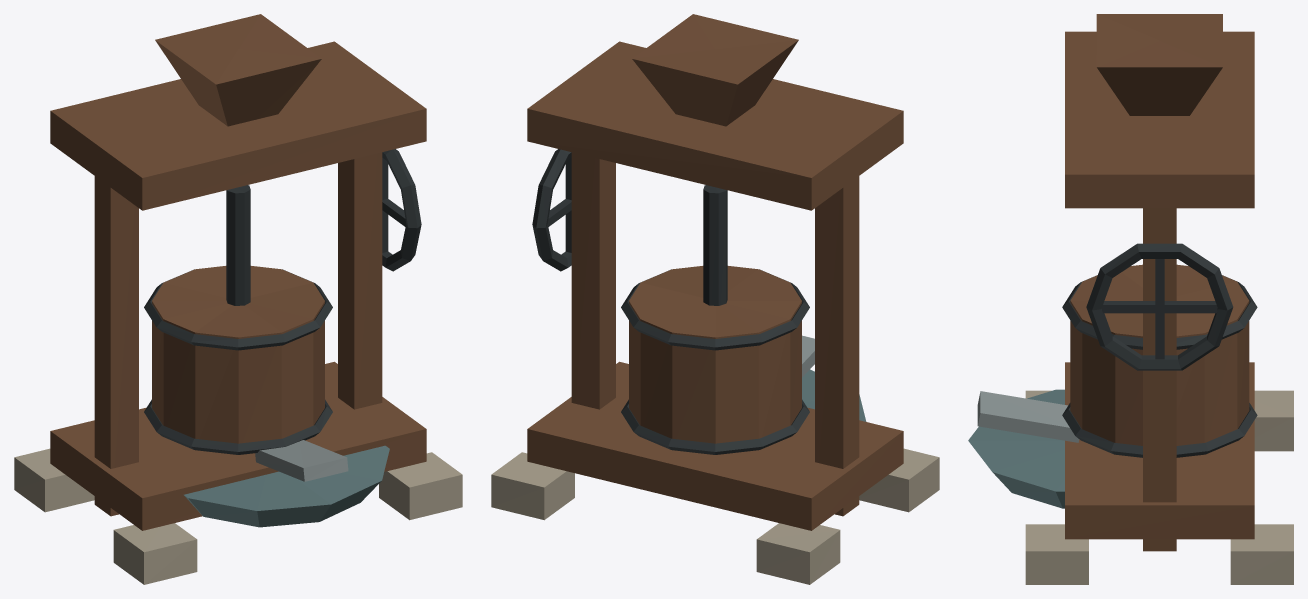
Rendered from Oil-Press.glb.
The picture shows the model from 3 angles, left to right: view 1: azimuth 30°, elevation 25°; view 2: azimuth 150°, elevation 25°; view 3: azimuth 270°, elevation 25°; orthographic projection. The views are drawn at different scales.
Parts seen in each view (by area): view 1: oil-press-static-oil-press-warm-timber-mat, oil-press-static-oil-press-warm-stone-mat, oil-press-static-oil-press-dark-iron-mat, oil-press-static-oil-press-blue-grey-basin-mat, oil-press-static-oil-press-muted-galvanized-mat; view 2: oil-press-static-oil-press-warm-timber-mat, oil-press-static-oil-press-warm-stone-mat, oil-press-static-oil-press-dark-iron-mat; view 3: oil-press-static-oil-press-warm-timber-mat, oil-press-static-oil-press-dark-iron-mat, oil-press-static-oil-press-warm-stone-mat, oil-press-static-oil-press-blue-grey-basin-mat, oil-press-static-oil-press-muted-galvanized-mat.
Boxes of the visible parts, <box> form: oil-press-static-oil-press-warm-timber-mat: <box>50,14,426,530</box>; oil-press-static-oil-press-warm-stone-mat: <box>14,448,462,584</box>; oil-press-static-oil-press-dark-iron-mat: <box>144,149,421,454</box>; oil-press-static-oil-press-blue-grey-basin-mat: <box>184,445,389,527</box>; oil-press-static-oil-press-muted-galvanized-mat: <box>255,440,348,481</box>; oil-press-static-oil-press-warm-timber-mat: <box>527,14,903,530</box>; oil-press-static-oil-press-warm-stone-mat: <box>491,448,939,584</box>; oil-press-static-oil-press-dark-iron-mat: <box>532,149,809,454</box>; oil-press-static-oil-press-warm-timber-mat: <box>1065,14,1254,551</box>; oil-press-static-oil-press-dark-iron-mat: <box>1062,243,1257,457</box>; oil-press-static-oil-press-warm-stone-mat: <box>1025,390,1293,584</box>; oil-press-static-oil-press-blue-grey-basin-mat: <box>968,389,1064,508</box>; oil-press-static-oil-press-muted-galvanized-mat: <box>977,391,1079,442</box>.
Size of the model in its own units: 2.04 by 2.75 by 1.75.
